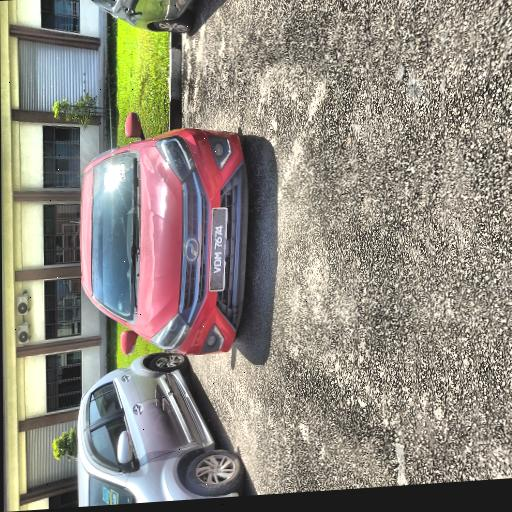license_plate: (209, 205, 231, 290)
